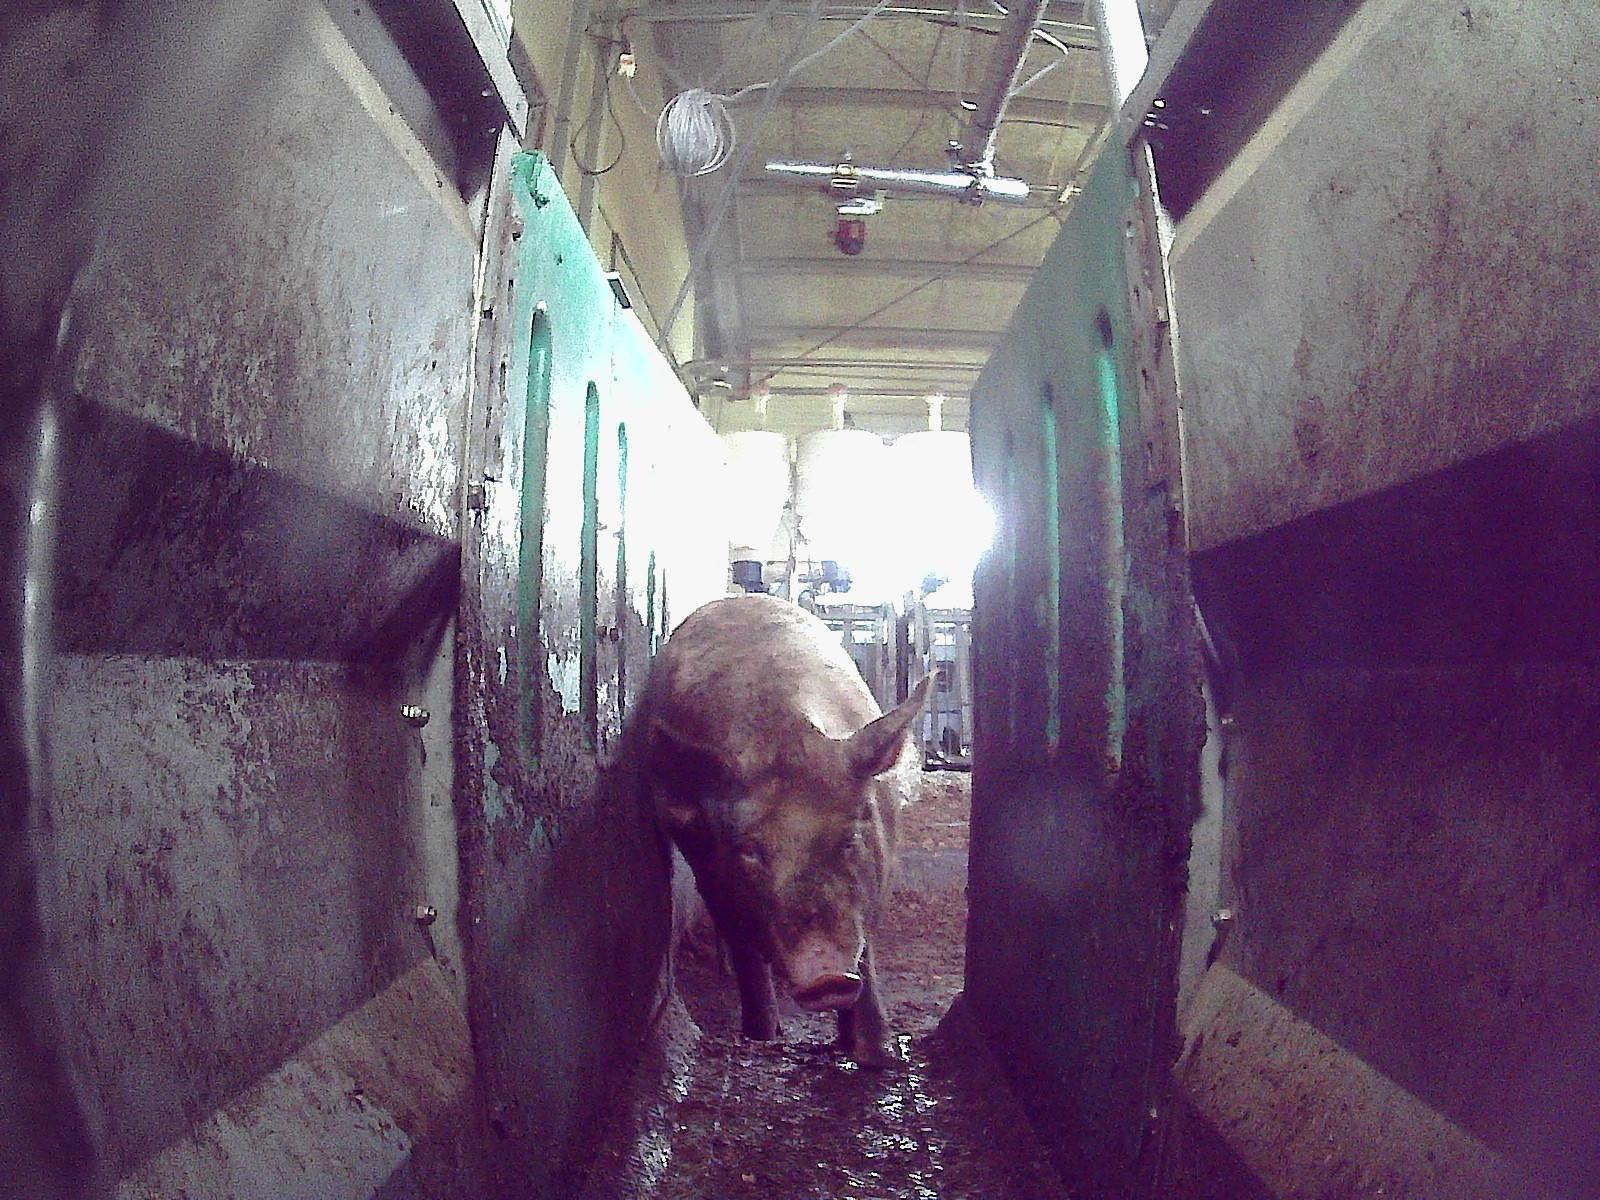Face: (707, 754, 869, 1008)
